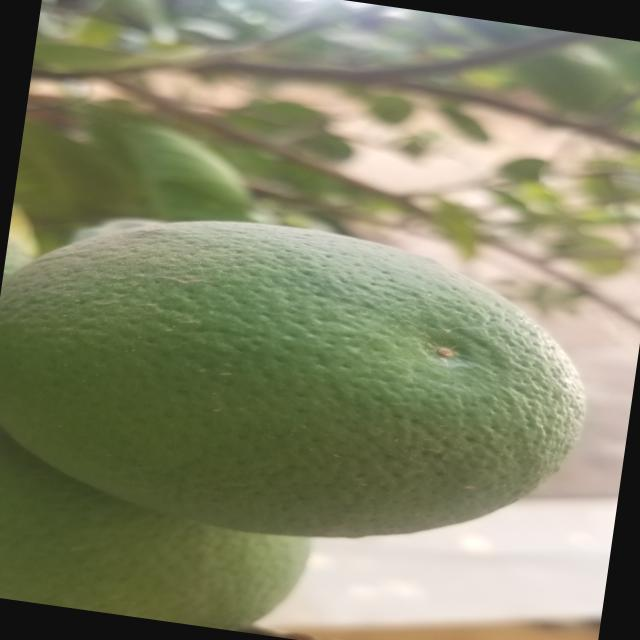Unripe: (0, 188, 600, 574), (0, 409, 311, 636)
